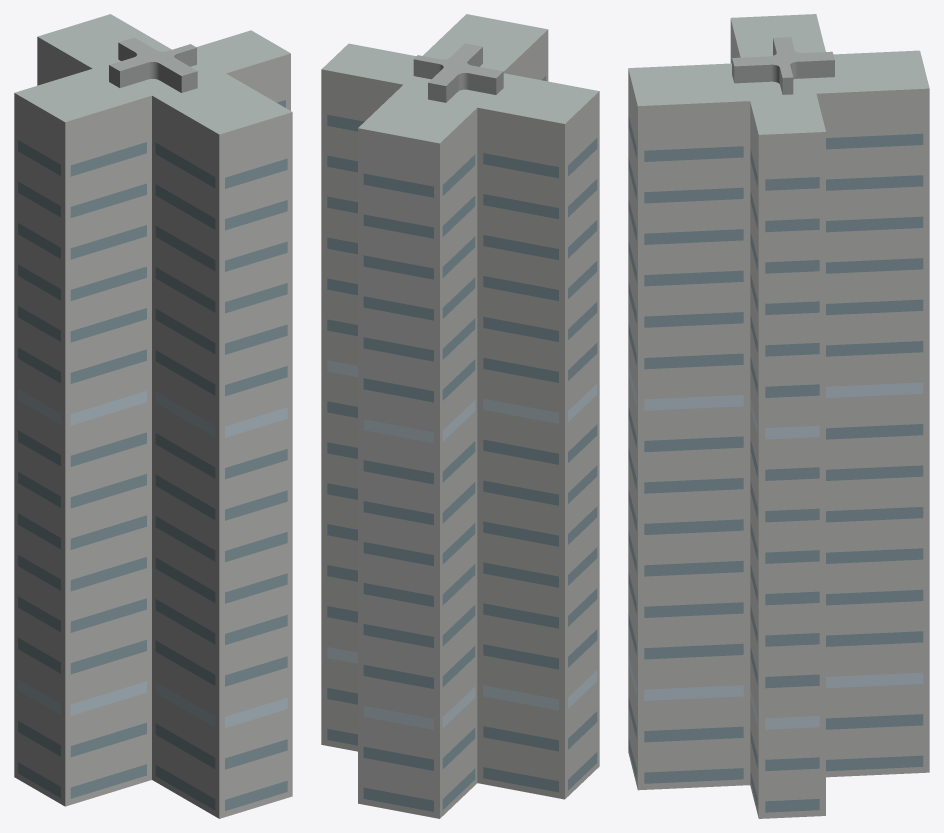
The model's file is fallback-acro-riverview-102.glb.
3 views of the same model, side by side, from view 1: azimuth 30°, elevation 25°; view 2: azimuth 150°, elevation 25°; view 3: azimuth 270°, elevation 25° (orthographic).
Parts seen in each view (by area): view 1: fallback-acro-riverview-102; view 2: fallback-acro-riverview-102; view 3: fallback-acro-riverview-102.
Part boxes in pixels (x1,y1,x2,y2): fallback-acro-riverview-102: (14,14,292,818); fallback-acro-riverview-102: (321,14,599,818); fallback-acro-riverview-102: (628,14,929,818).
Size of the model in its own units: 36.64 by 99 by 38.58.
